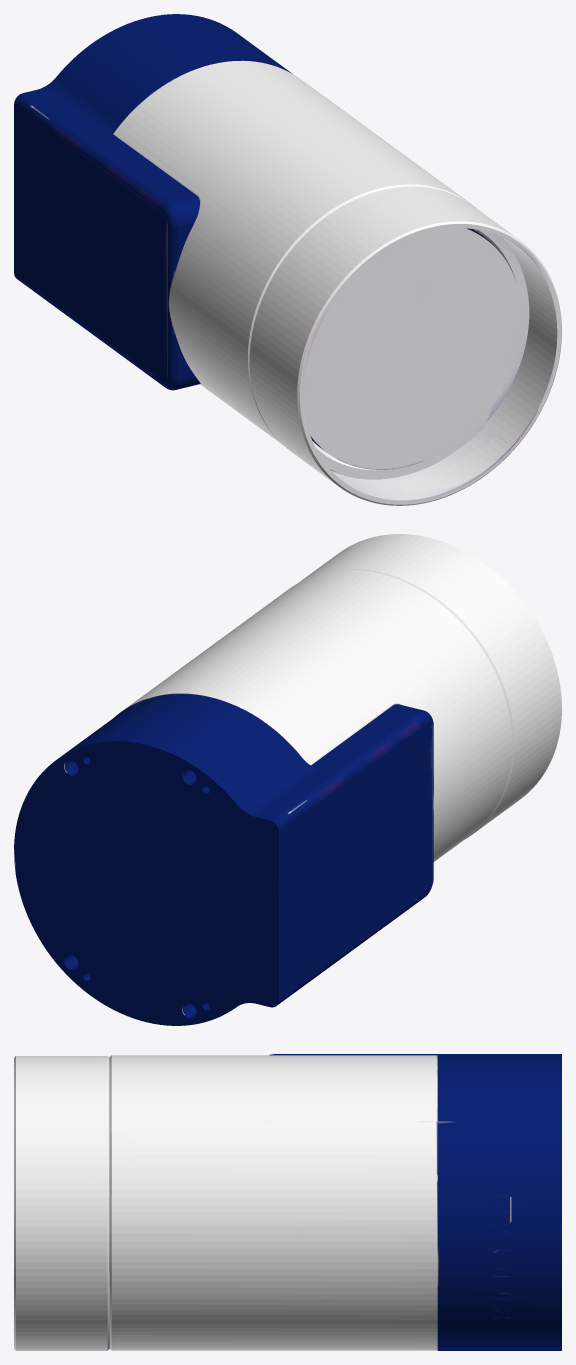
File: Kinova7dof_base.obj
3 renders of one model, top to bottom at view 1: azimuth 30°, elevation 25°; view 2: azimuth 150°, elevation 25°; view 3: azimuth 270°, elevation 25°, orthographic. The views are drawn at different scales.
Visible parts, largest first — view 1: Kinova7dof_base; view 2: Kinova7dof_base; view 3: Kinova7dof_base.
Part boxes in pixels (left/top/right/bottom): Kinova7dof_base: left=14, top=14, right=561, bottom=505; Kinova7dof_base: left=14, top=534, right=561, bottom=1025; Kinova7dof_base: left=14, top=1054, right=561, bottom=1350.
Size of the model in its own units: 0.0925 by 0.0922 by 0.1708.
1 material, 1 textured.
